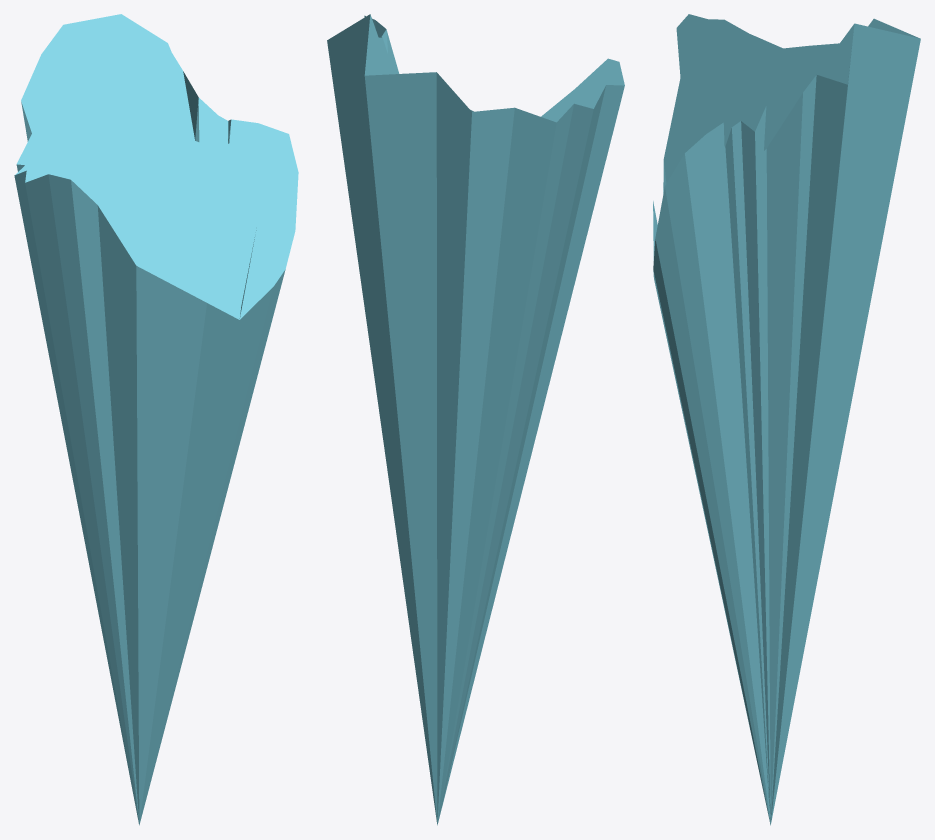
Rendered from Ice.fbx.
3 views of the same model, side by side, from view 1: azimuth 30°, elevation 25°; view 2: azimuth 150°, elevation 25°; view 3: azimuth 270°, elevation 25° (orthographic). The views are drawn at different scales.
Visible parts, largest first — view 1: Cone; view 2: Cone; view 3: Cone.
Part boxes in pixels (left/top/right/bottom): Cone: left=14, top=14, right=298, bottom=825; Cone: left=327, top=14, right=624, bottom=825; Cone: left=653, top=14, right=920, bottom=825.
Size of the model in its own units: 86.66 by 255 by 75.94.
